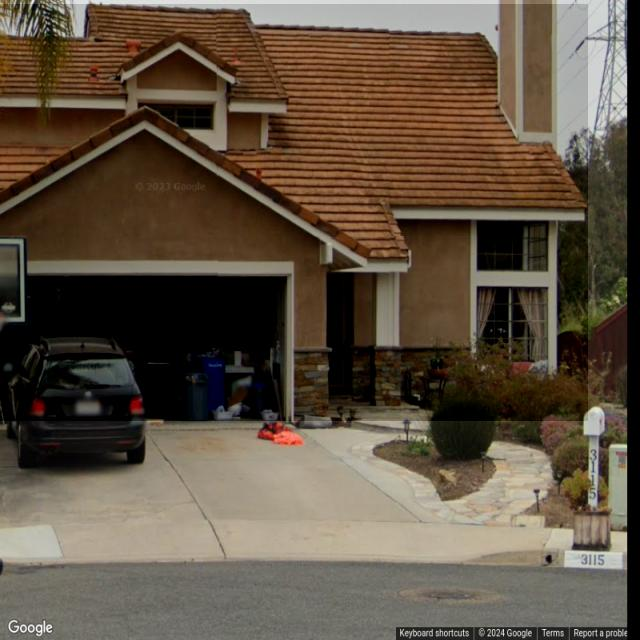House: (1, 4, 588, 421)
